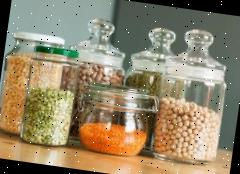glass: (0, 4, 234, 169)
